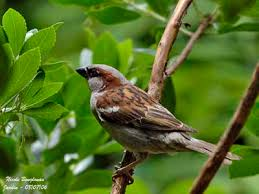hsparrow: (74, 60, 243, 176)
